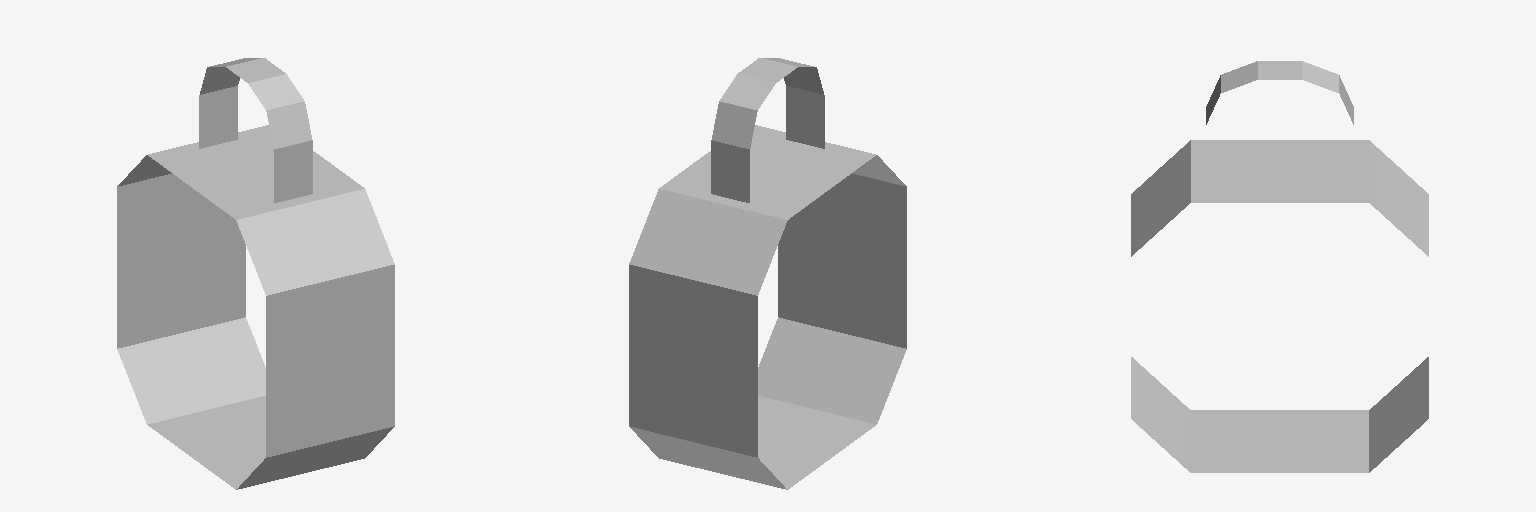
Rendered from door_lock.obj.
3 views of the same model, side by side, from view 1: azimuth 30°, elevation 25°; view 2: azimuth 150°, elevation 25°; view 3: azimuth 270°, elevation 25° (orthographic).
Size of the model in its own units: 0.8 by 2.2 by 1.6.